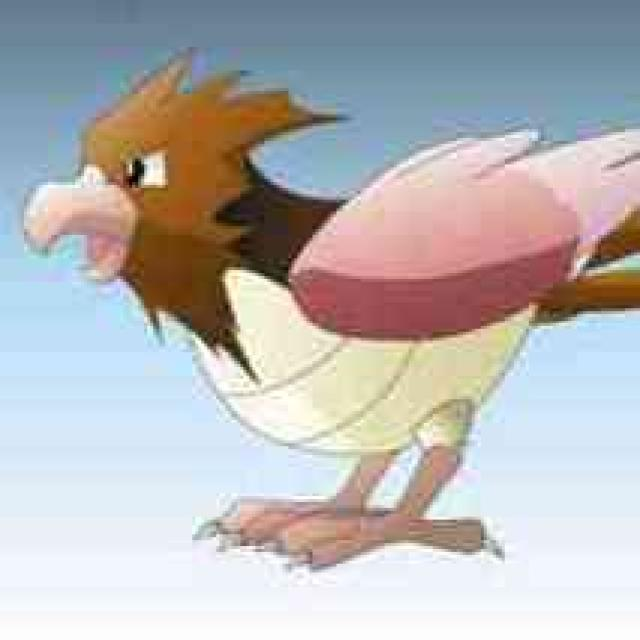Spearow: (16, 82, 615, 547)
